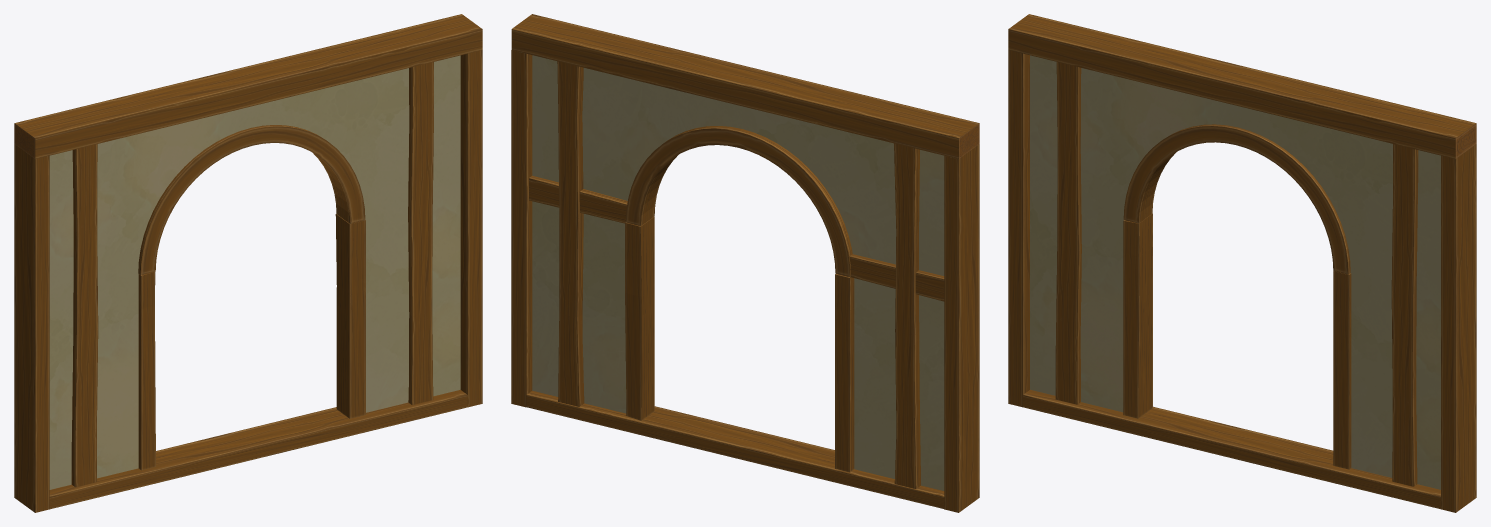
File: SM_House_Wall_5x4_Door_E_01.fbx
The picture shows the model from 3 angles, left to right: view 1: azimuth 30°, elevation 25°; view 2: azimuth 150°, elevation 25°; view 3: azimuth 330°, elevation 25°; orthographic projection.
Parts seen in each view (by area): view 1: SM_House_Wall_5x4_Door_E_01; view 2: SM_House_Wall_5x4_Door_E_01; view 3: SM_House_Wall_5x4_Door_E_01.
Part boxes in pixels (x1,y1,x2,y2): SM_House_Wall_5x4_Door_E_01: (14, 14, 482, 512); SM_House_Wall_5x4_Door_E_01: (511, 14, 979, 512); SM_House_Wall_5x4_Door_E_01: (1008, 14, 1476, 512).
Size of the model in its own units: 5 by 4 by 0.4024.
